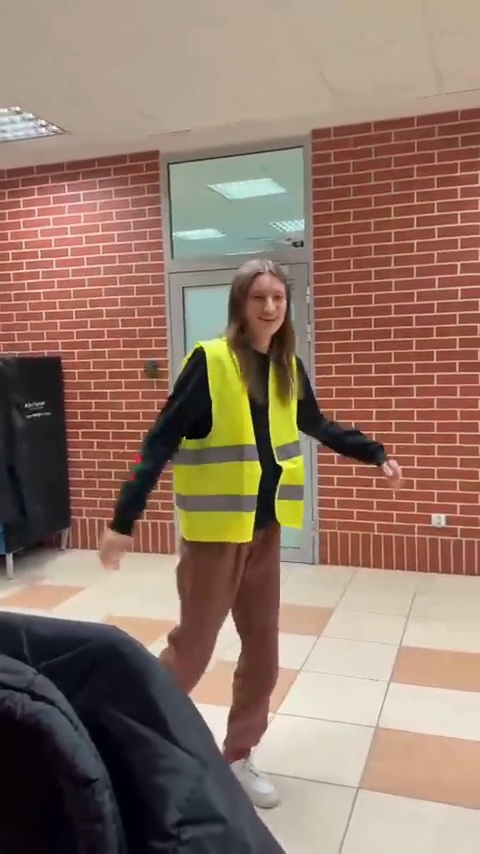vest: (123, 268, 353, 789)
